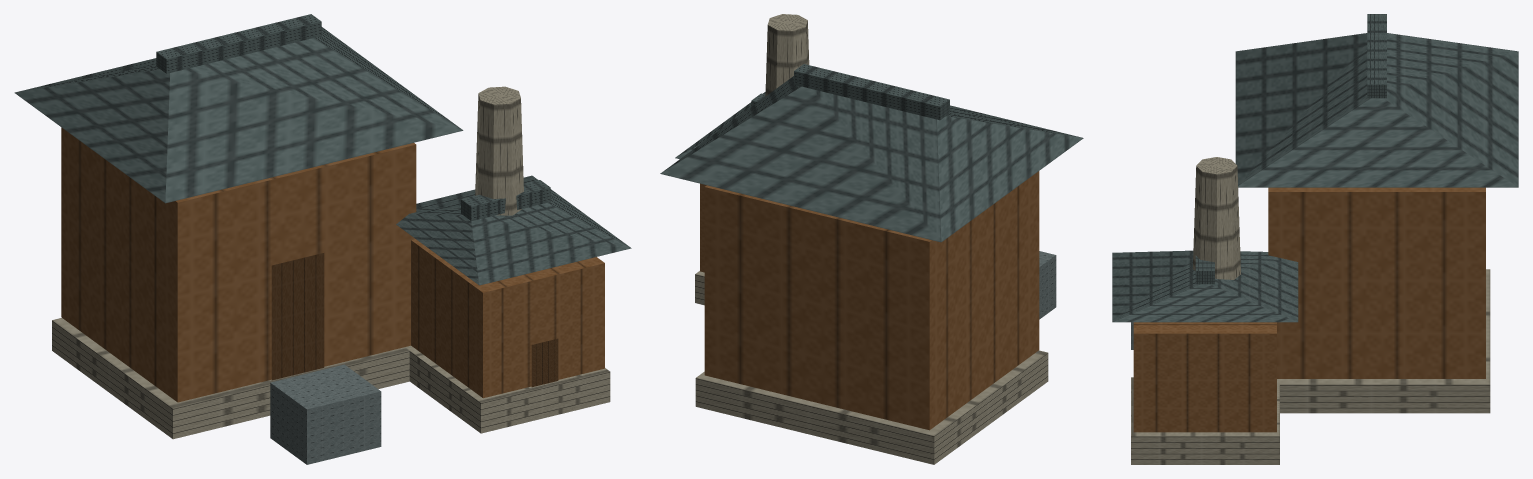
The model's file is domestic-SMITH-2-lod2.glb.
3 views of the same model, side by side, from view 1: azimuth 30°, elevation 25°; view 2: azimuth 150°, elevation 25°; view 3: azimuth 270°, elevation 25° (orthographic). The views are drawn at different scales.
Bounding box in the file's own units: 0.755 × 0.6 × 0.7095.
Materials: 1 (1 with a texture image).
